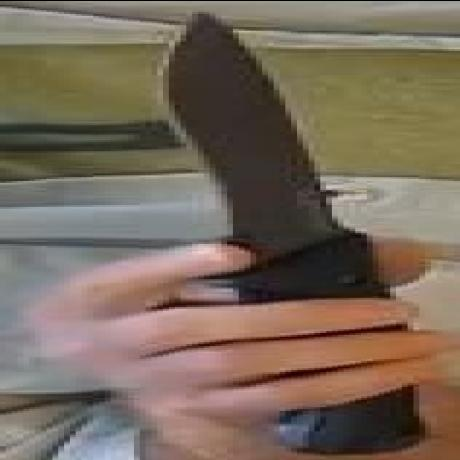1: (6, 232, 460, 460)
weapon: (160, 10, 412, 310)
